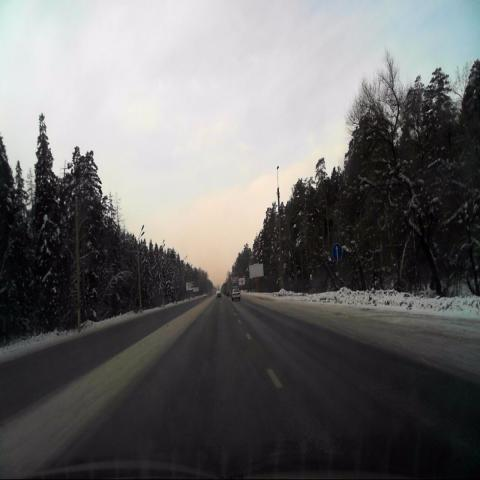4_1_1: (332, 243, 342, 261)
